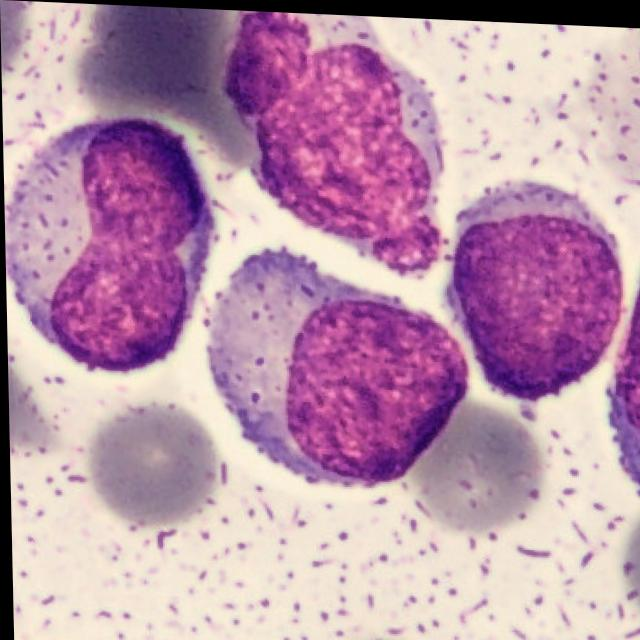Mieloblasto: (203, 249, 469, 486), (220, 9, 445, 275), (10, 118, 212, 372), (448, 180, 624, 399)
